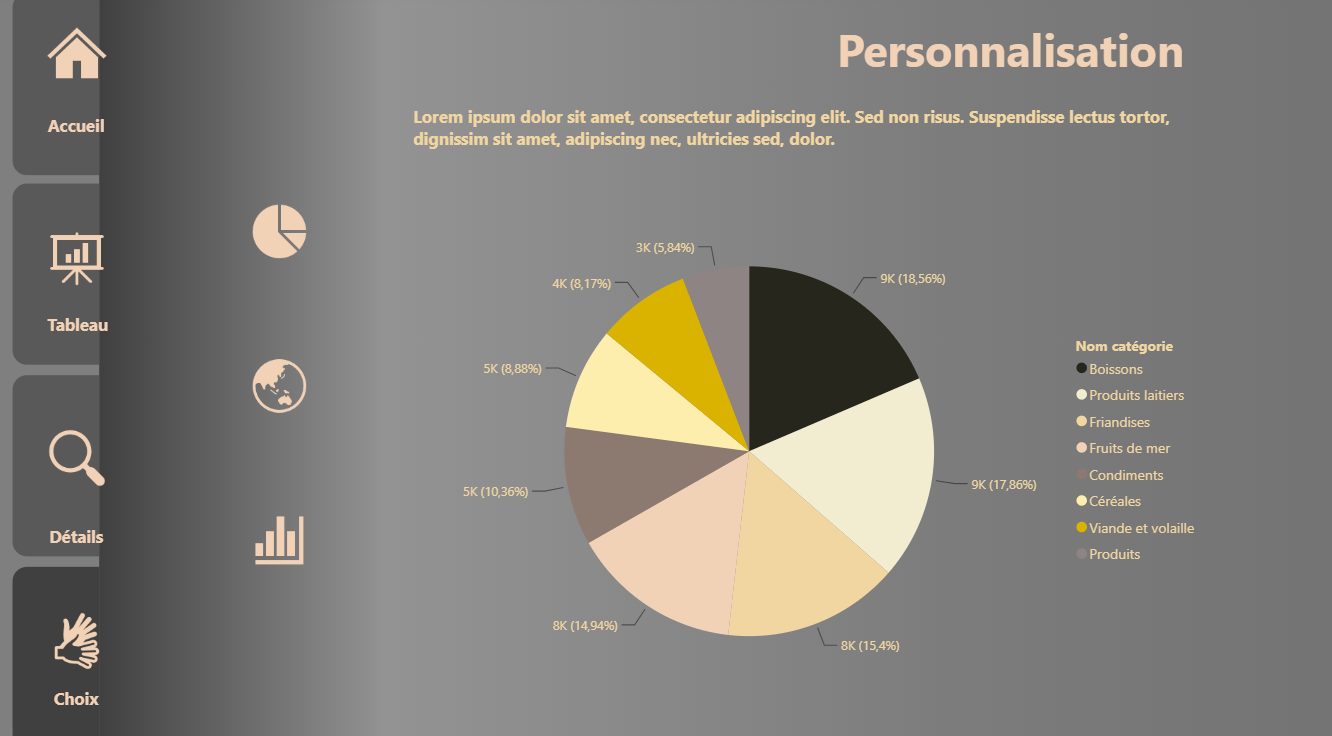

The dashboard page shown, as its layout file describes it:
{"tool":"powerbi","page":{"name":"Page 4","canvas":[1280,720],"ordinal":3},"visuals":[{"type":"textbox","box":[430.4,19.1,717.6,69.1],"z":0,"group":"g1"},{"type":"pieChart","fields":{"Category":["commande client produit.Nom catégorie"],"Y":["Sum(commande client produit.Quantité)"]},"box":[398.8,180.8,756.8,511.7],"z":2000},{"type":"textbox","box":[389.1,99.6,775.1,59.7],"z":4000,"group":"g1"},{"type":"image","box":[36.4,214.5,75.1,75.1],"z":5000,"group":"g1"},{"type":"image","box":[36.4,18.4,75.1,75.1],"z":6000,"group":"g1"},{"type":"image","box":[36.4,580.6,75.1,75.1],"z":7000,"group":"g1"},{"type":"image","box":[36.4,406,75.1,75.1],"z":8000,"group":"g1"},{"type":"textbox","box":[23,108.8,99.6,42.9],"z":9000,"group":"g1"},{"type":"textbox","box":[24.5,298.7,99.6,42.9],"z":10000,"group":"g1"},{"type":"textbox","box":[23,500.9,99.6,42.9],"z":11000,"group":"g1"},{"type":"textbox","box":[23,655.7,99.6,42.9],"z":12000,"group":"g1"},{"type":"shape","box":[23,569.9,99.6,150.1],"z":12001,"group":"g1"},{"type":"shape","box":[24.5,372.3,99.6,183.8],"z":12002,"group":"g1"},{"type":"shape","box":[24.5,188.4,99.6,183.8],"z":12003,"group":"g1"},{"type":"shape","box":[23,0,99.6,183.8],"z":12004,"group":"g1"},{"type":"image","box":[229.8,336.3,75.1,75.1],"z":12005,"group":"g1"},{"type":"image","box":[229.8,484.1,75.1,75.1],"z":12006,"group":"g1"},{"type":"image","box":[229.8,188.4,75.1,75.1],"z":12007,"group":"g1"},{"type":"group","id":"g1","title":"Groupe 1","box":[23,0,1141.3,720],"z":12008}]}

Visuals, with their boxes on the page's 1280x720 design canvas (x1, y1, x2, y2). These are canvas units, not pixel positions in the 1332x736 screenshot, which may show the page scaled, cropped or inside an application window:
textbox: x1=430, y1=19, x2=1148, y2=88
pieChart - commande client produit.Nom catégorie x Sum(commande client produit.Quantité): x1=399, y1=181, x2=1156, y2=692
textbox: x1=389, y1=100, x2=1164, y2=159
image: x1=36, y1=214, x2=112, y2=290
image: x1=36, y1=18, x2=112, y2=94
image: x1=36, y1=581, x2=112, y2=656
image: x1=36, y1=406, x2=112, y2=481
textbox: x1=23, y1=109, x2=123, y2=152
textbox: x1=24, y1=299, x2=124, y2=342
textbox: x1=23, y1=501, x2=123, y2=544
textbox: x1=23, y1=656, x2=123, y2=699
shape: x1=23, y1=570, x2=123, y2=720
shape: x1=24, y1=372, x2=124, y2=556
shape: x1=24, y1=188, x2=124, y2=372
shape: x1=23, y1=0, x2=123, y2=184
image: x1=230, y1=336, x2=305, y2=411
image: x1=230, y1=484, x2=305, y2=559
image: x1=230, y1=188, x2=305, y2=264
"Groupe 1" group: x1=23, y1=0, x2=1164, y2=720
